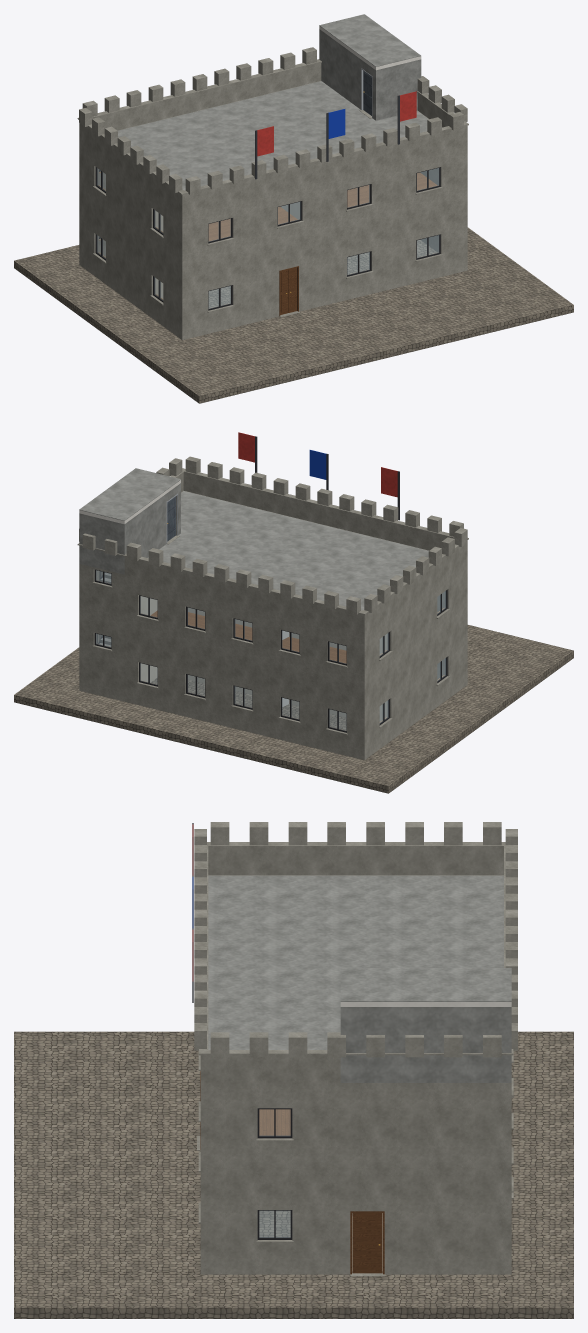
The model's file is b_knight_barracks.gltf.
3 views of the same model, one above another, from view 1: azimuth 30°, elevation 25°; view 2: azimuth 150°, elevation 25°; view 3: azimuth 270°, elevation 25° (orthographic). The views are drawn at different scales.
Parts seen in each view (by area): view 1: S_knight_barracks; view 2: S_knight_barracks; view 3: S_knight_barracks, D_knight_barracks_F1_E1_Door0.
Part boxes in pixels (left/top/right/bottom): S_knight_barracks: left=14, top=14, right=573, bottom=403; S_knight_barracks: left=14, top=432, right=573, bottom=793; S_knight_barracks: left=14, top=822, right=573, bottom=1318; D_knight_barracks_F1_E1_Door0: left=352, top=1213, right=382, bottom=1273.
Bounding box in the file's own units: 21 × 10.8 × 18.
Materials: 20 (12 with a texture image).
